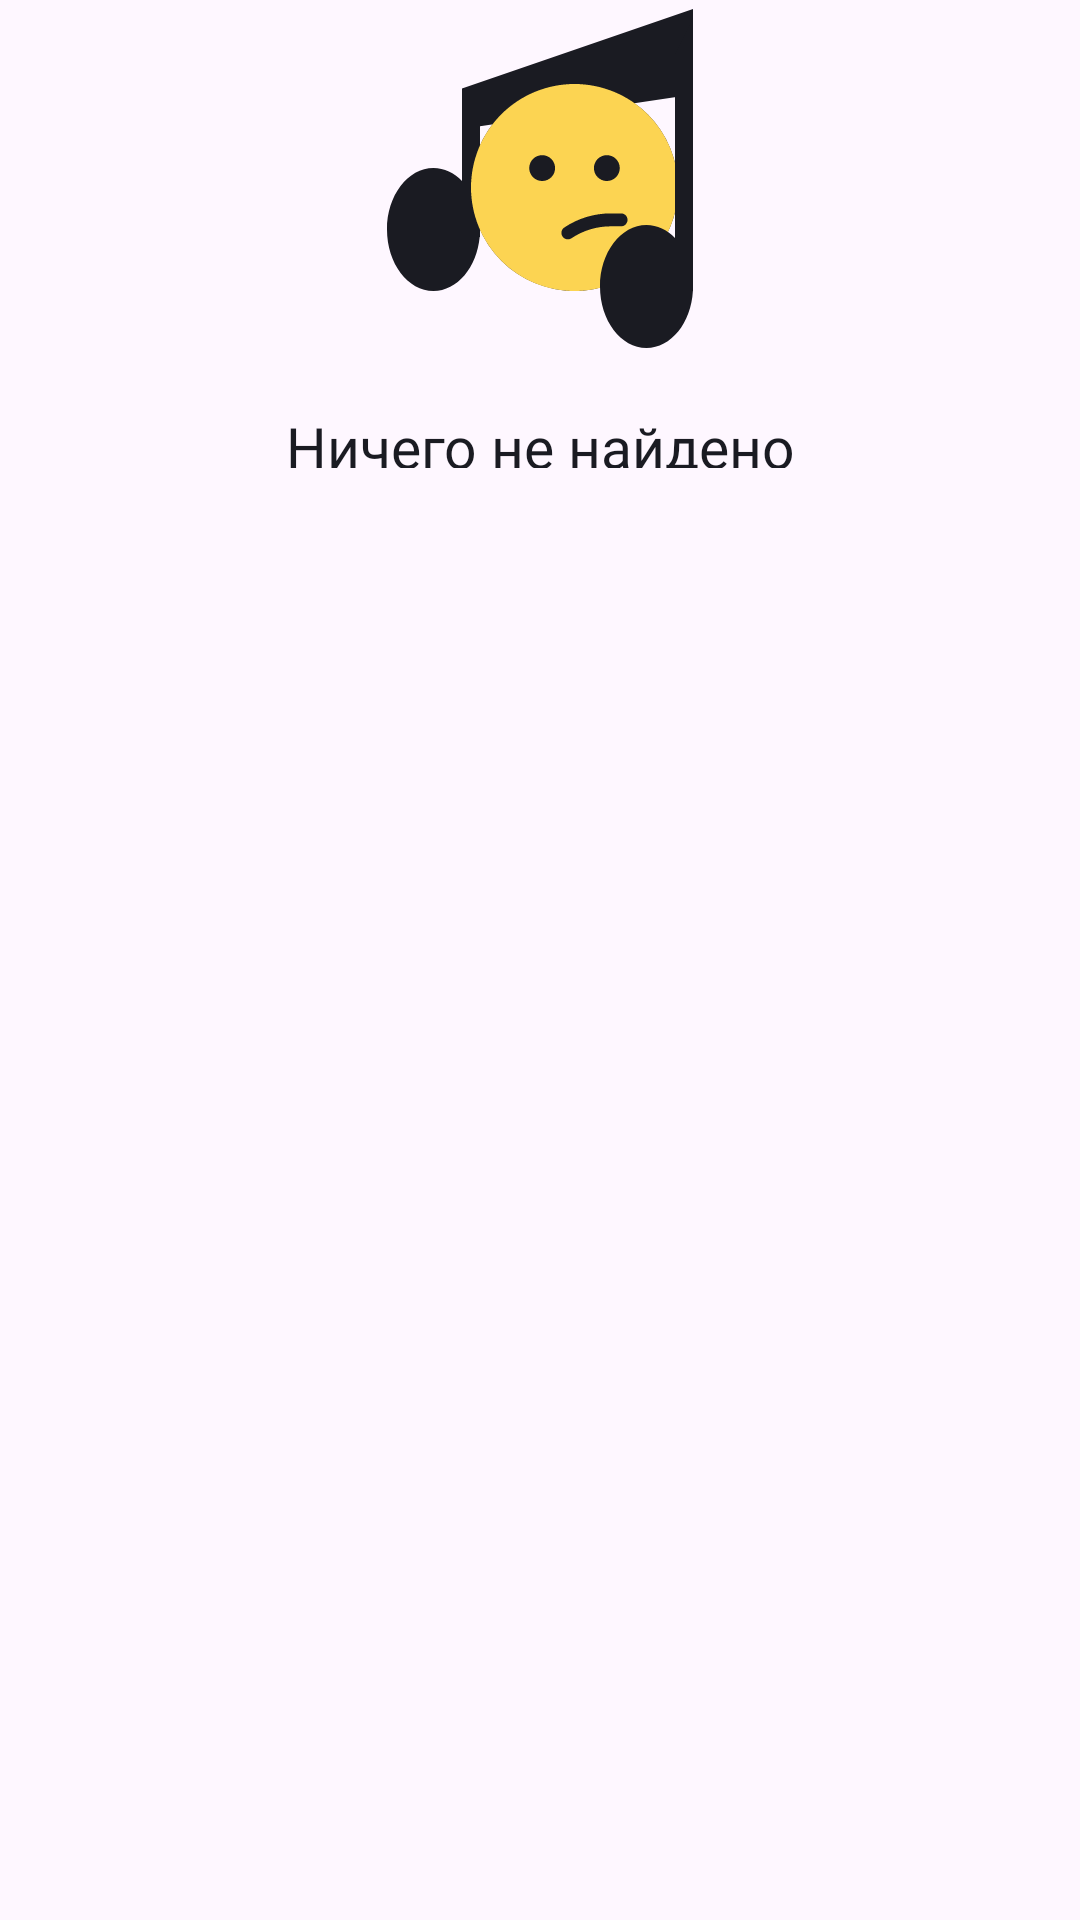

Locate icon controls on the screen. Image size 1080*1920, boxes as BBox(x1, y1, x2, y2).
no track: BBox(387, 9, 693, 348)
